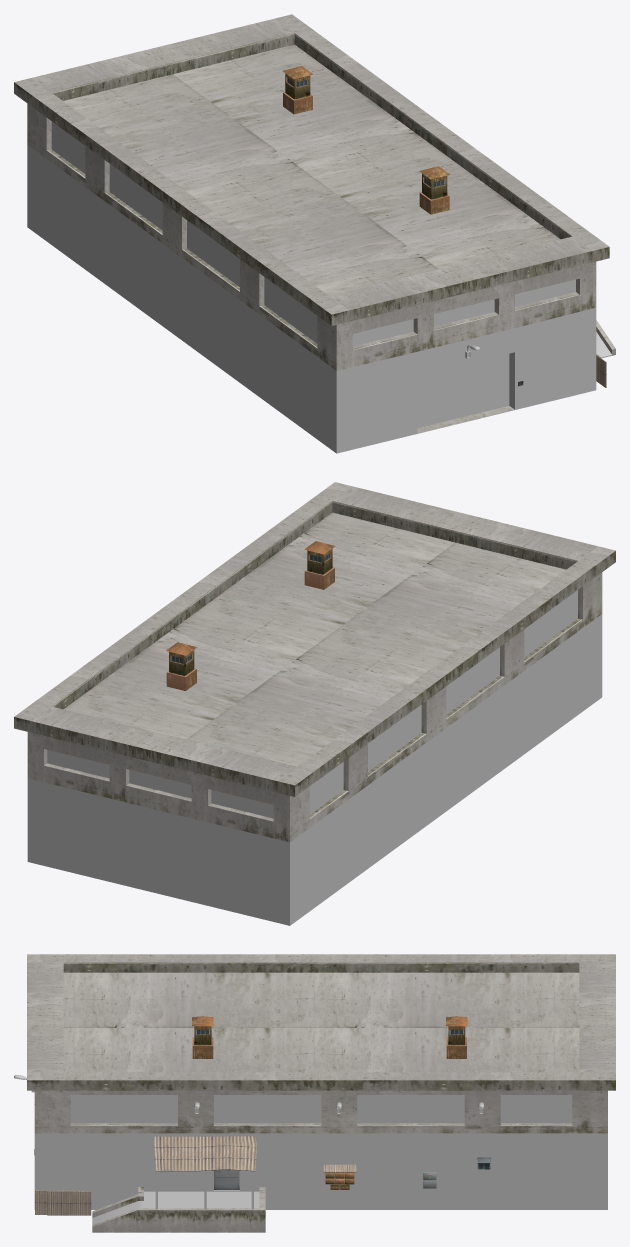
Rendered from ind4_hall5_LOD1.fbx.
3 renders of one model, top to bottom at view 1: azimuth 30°, elevation 25°; view 2: azimuth 150°, elevation 25°; view 3: azimuth 270°, elevation 25°, orthographic. The views are drawn at different scales.
Parts seen in each view (by area): view 1: Mesh Object; view 2: Mesh Object; view 3: Mesh Object.
Boxes of the visible parts, x1,y1,x2,y2 form: Mesh Object: [14, 14, 615, 453]; Mesh Object: [14, 482, 615, 925]; Mesh Object: [14, 954, 615, 1232].
Bounding box in the file's own units: 20.64 × 10.53 × 35.57.
